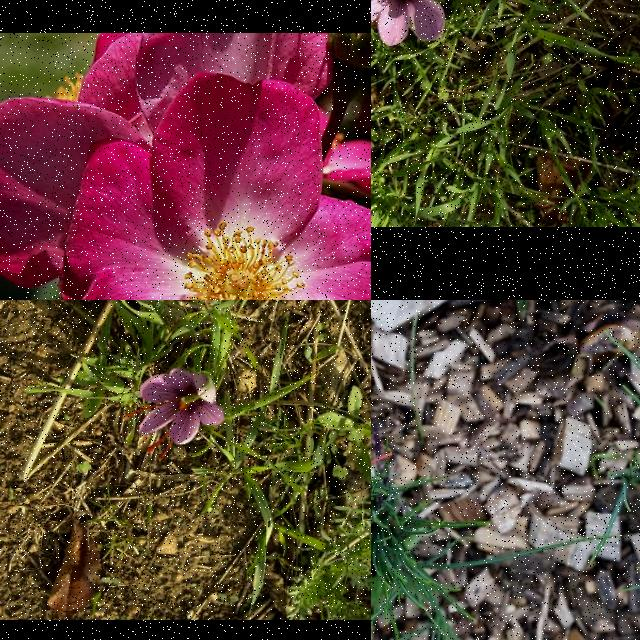flower: (124, 368, 226, 462), (371, 0, 449, 46)
